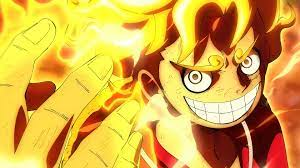Luffy: (152, 3, 271, 127)
